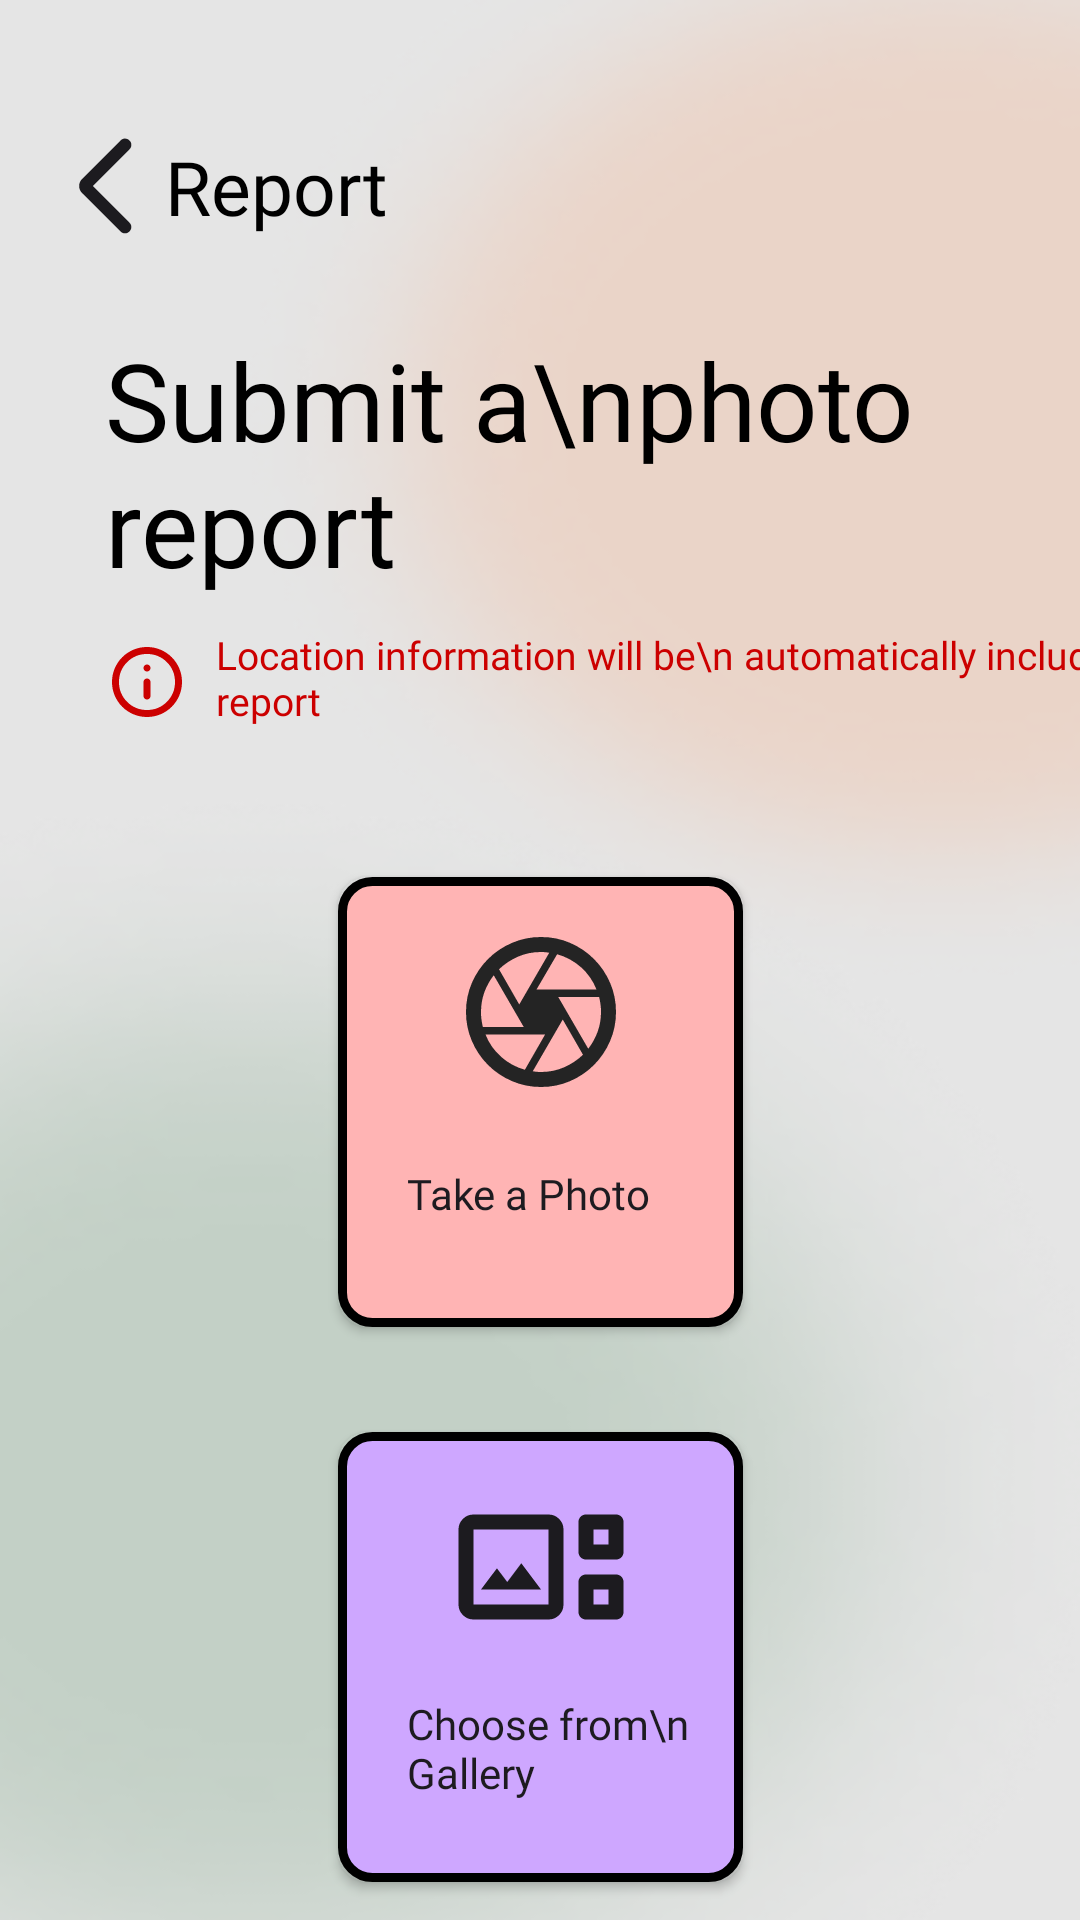

Where to tap for icons on this 1080x1920 app screen, as (x=x, y=y):
arrow back: (x=105, y=186)
camera: (x=541, y=1012)
gallery thumbnail: (x=541, y=1567)
